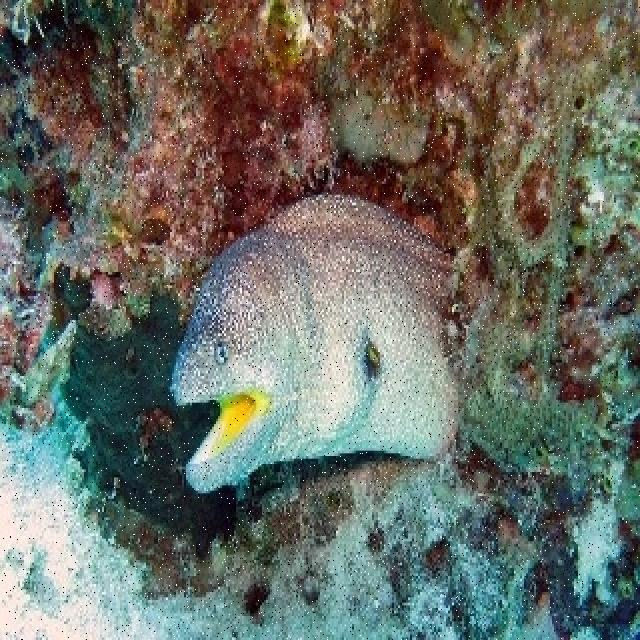fish: (171, 196, 462, 494)
reefs: (465, 118, 602, 477)
